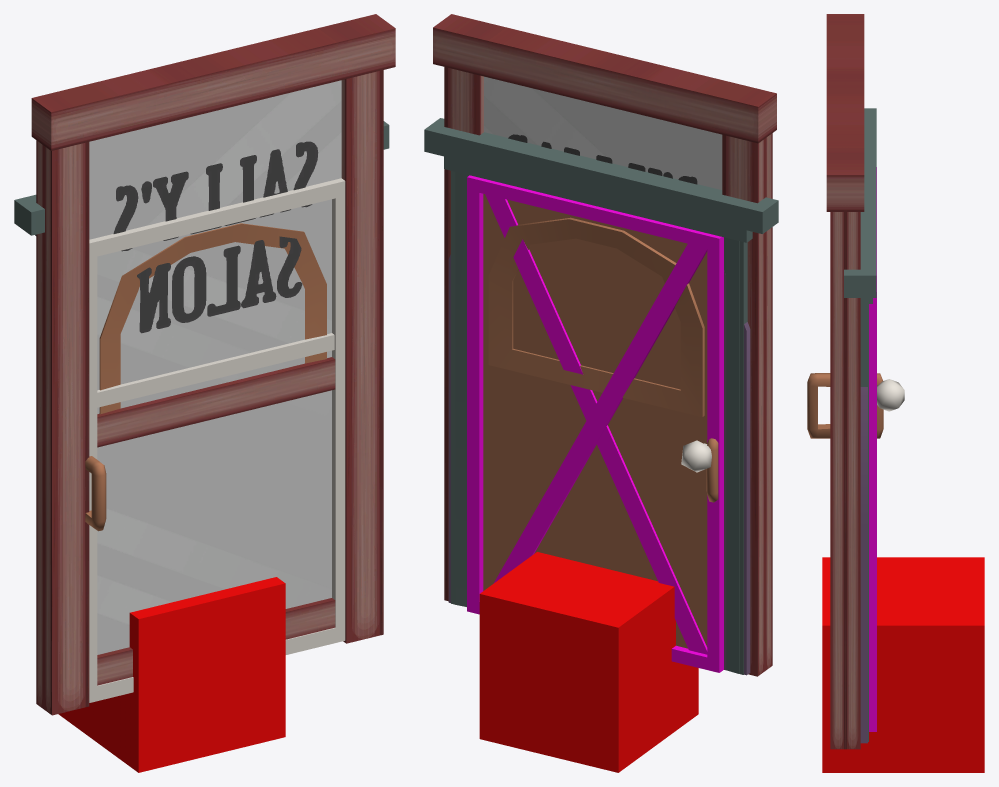
File: Door_Prefab.fbx
3 renders of one model, left to right at view 1: azimuth 30°, elevation 25°; view 2: azimuth 150°, elevation 25°; view 3: azimuth 270°, elevation 25°, orthographic. The views are drawn at different scales.
Parts seen in each view (by area): view 1: Door, GlassDoor, Entry_Exit_Zone, ArchDoor, BarnDoorFrame; view 2: BarnDoor, Door, Entry_Exit_Zone, BarnDoorFrame, ArchDoor, Door_Frame, ArchDoorFrame, GlassDoor; view 3: Entry_Exit_Zone, Door, BarnDoor, BarnDoorFrame, ArchDoorFrame, GlassDoor, Door_Frame, ArchDoor.
Part boxes in pixels (x1,y1,x2,y2): Door: (31, 14, 395, 715); GlassDoor: (85, 178, 345, 702); Entry_Exit_Zone: (58, 577, 285, 772); ArchDoor: (99, 223, 326, 414); BarnDoorFrame: (14, 121, 389, 235); BarnDoor: (467, 175, 723, 672); Door: (433, 14, 776, 676); Entry_Exit_Zone: (479, 552, 698, 772); BarnDoorFrame: (424, 118, 778, 673); ArchDoor: (488, 217, 711, 472); Door_Frame: (444, 156, 752, 674); ArchDoorFrame: (448, 254, 750, 675); GlassDoor: (706, 438, 718, 502); Entry_Exit_Zone: (822, 557, 984, 772); Door: (826, 14, 864, 749); BarnDoor: (869, 167, 876, 731); BarnDoorFrame: (844, 108, 876, 297); ArchDoorFrame: (860, 387, 867, 743); GlassDoor: (807, 373, 883, 438); Door_Frame: (860, 298, 872, 741); ArchDoor: (877, 379, 904, 411).
Size of the model in its own units: 2.44 by 4.42 by 1.09.
